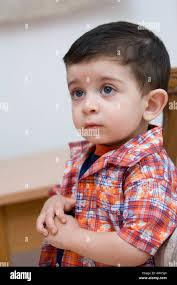Human: (42, 19, 173, 282)
